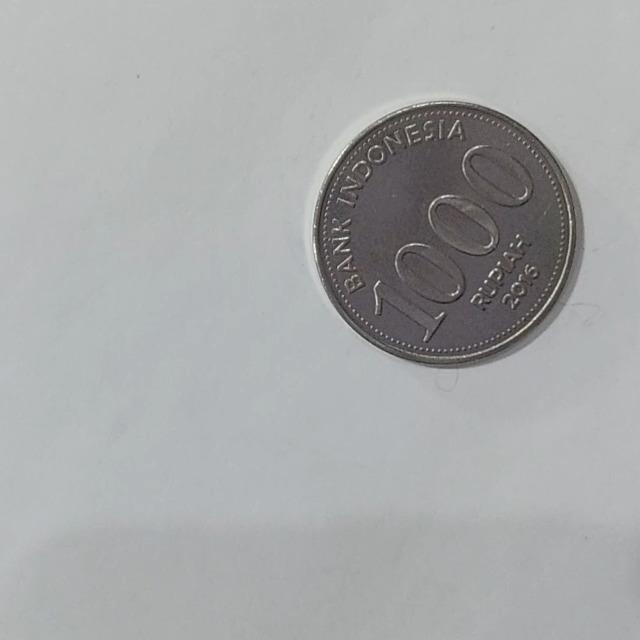Rp100: (310, 97, 582, 368)
